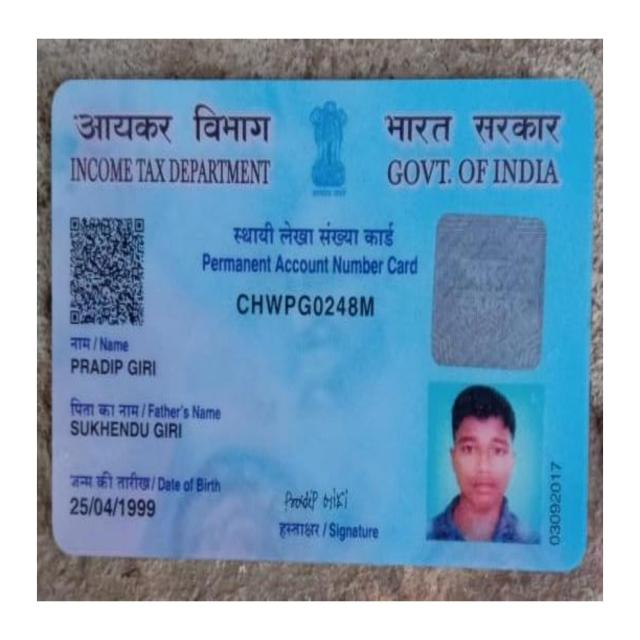pan_card: (53, 88, 588, 560)
